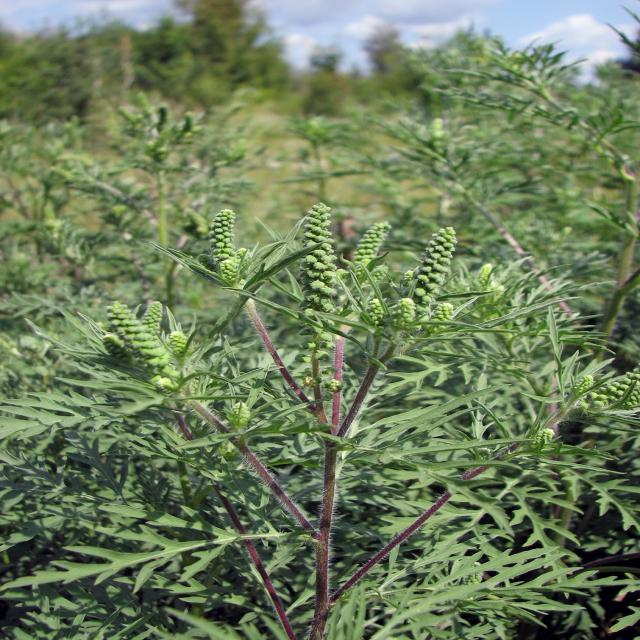ambrosia: (154, 188, 489, 467)
